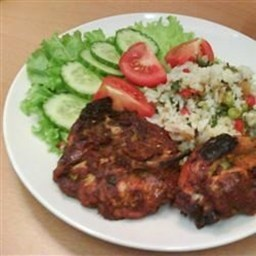background: (8, 6, 102, 91)
